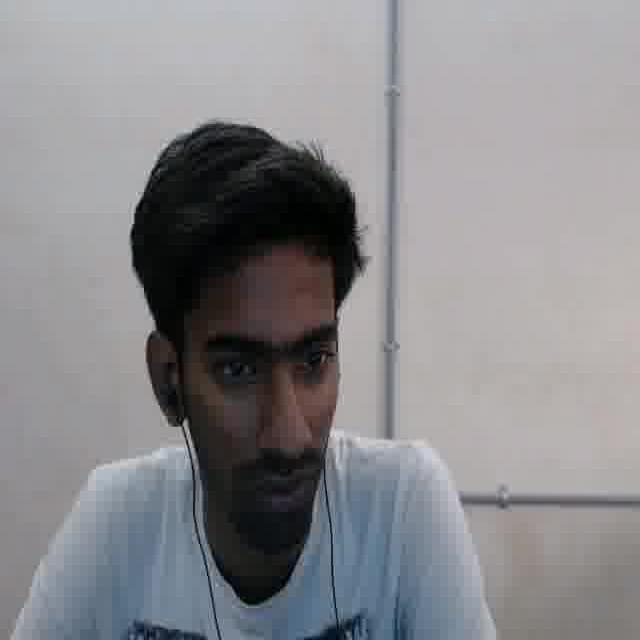Engaged: (183, 247, 345, 521)
